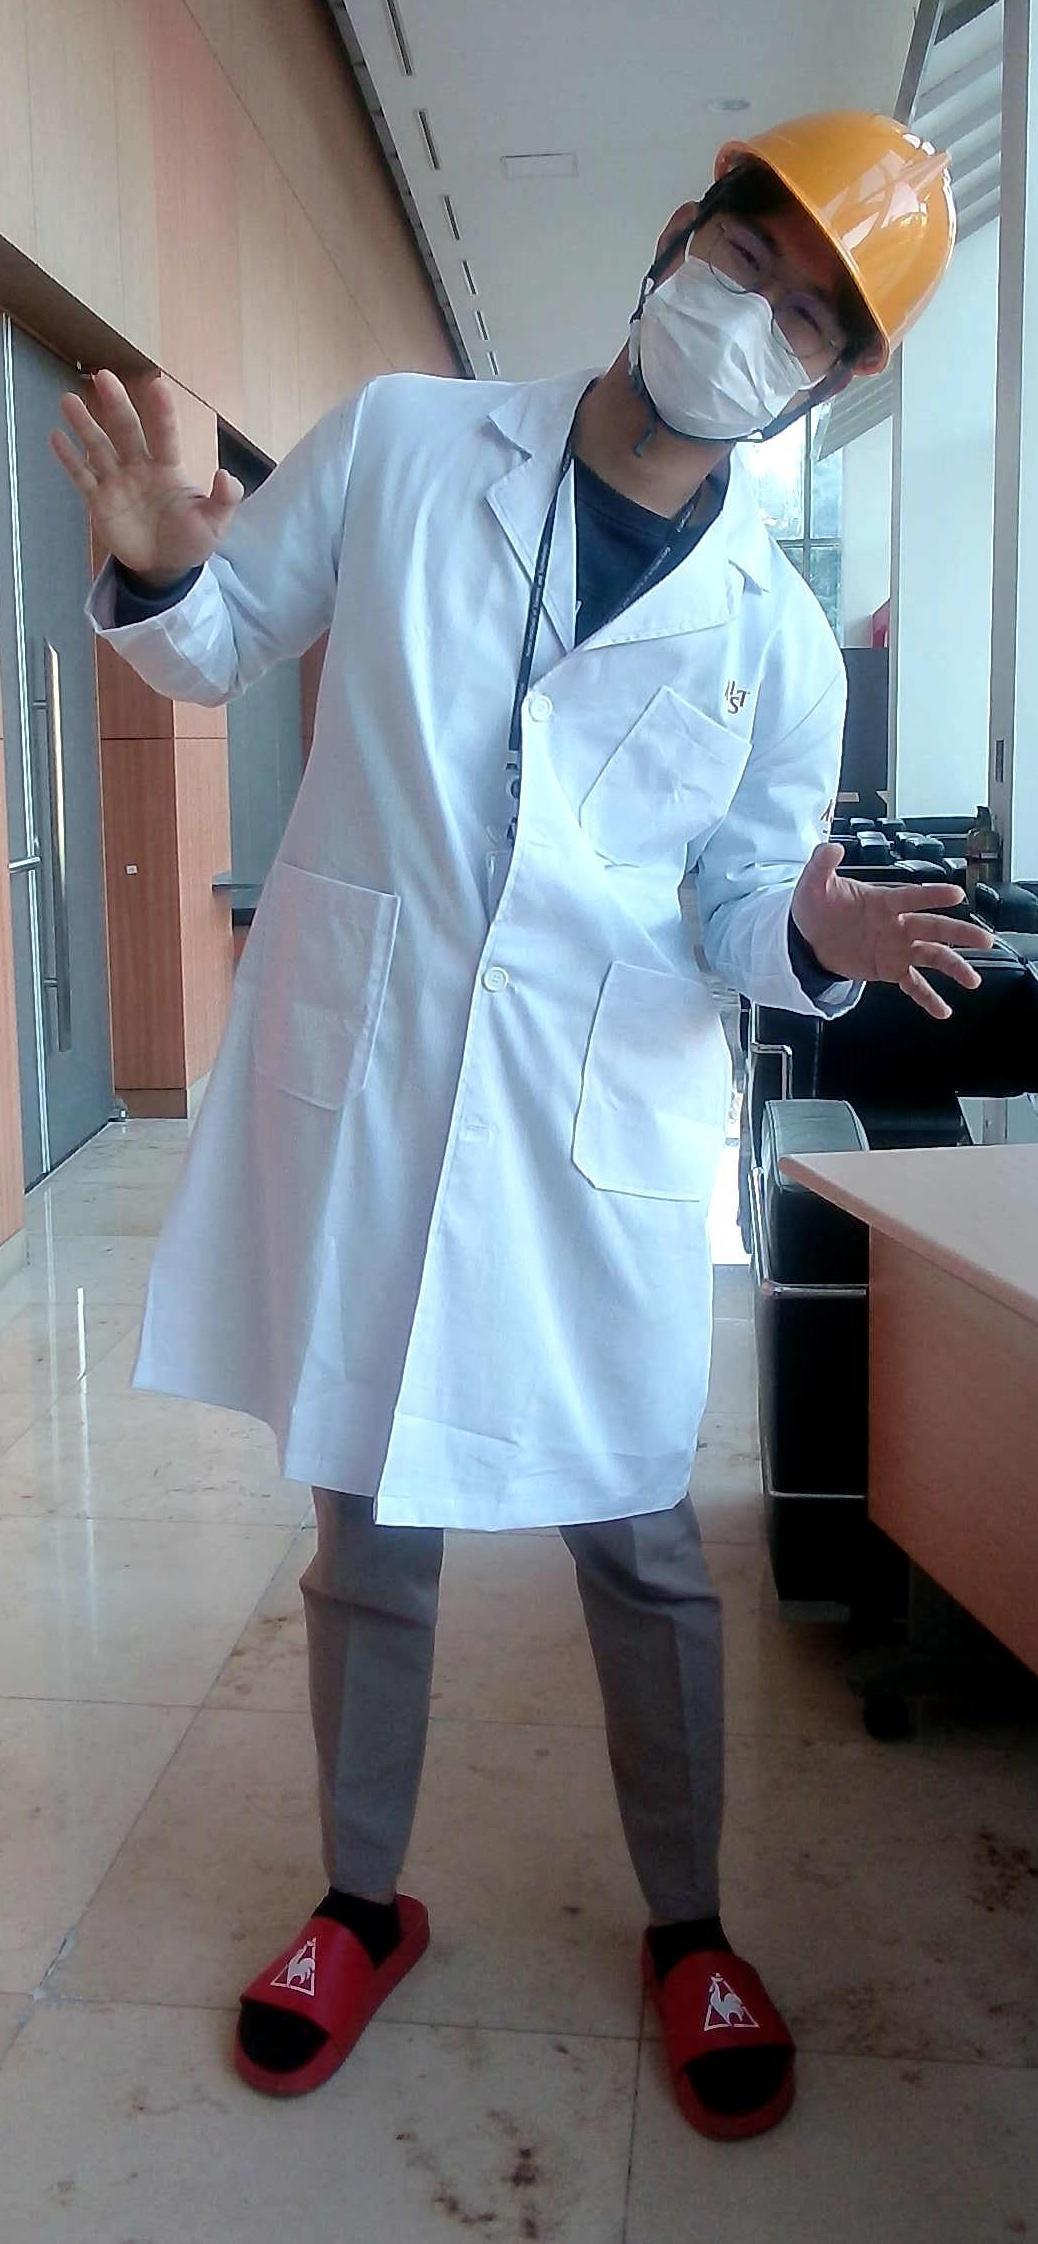lab_coat: (238, 494, 818, 1517)
